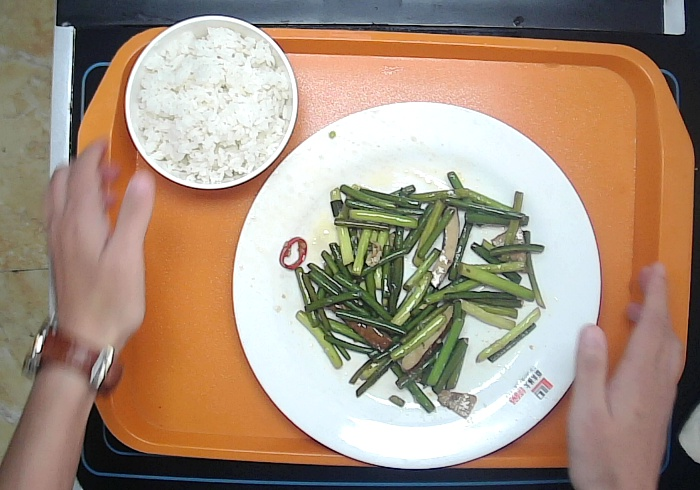ZNLD-Da_Yuan_Pan: (232, 99, 602, 470)
ZNLD-Fan_Wan: (123, 14, 300, 191)
